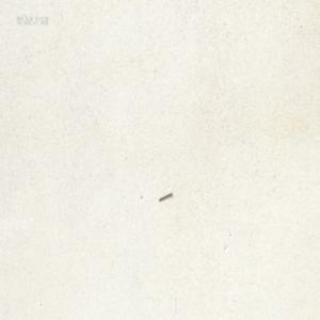Bolttrack_idkeyframe: (156, 190, 172, 201)
